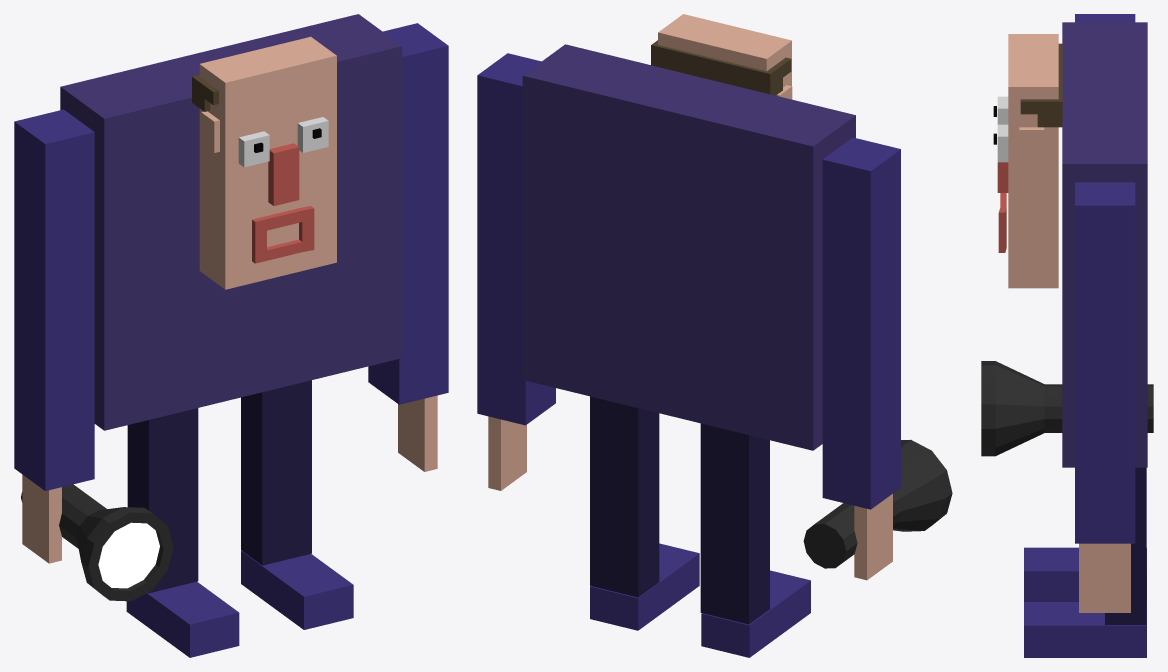
The model's file is Man.glb.
3 renders of one model, left to right at view 1: azimuth 30°, elevation 25°; view 2: azimuth 150°, elevation 25°; view 3: azimuth 270°, elevation 25°, orthographic. The views are drawn at different scales.
Parts seen in each view (by area): view 1: Cube.002, Cube.003, Cube.001, Cube, Cube.005, Cube.004, Cylinder, Cube.006, Cube.007, Cube.009, Cube.008, Cube.015 (+5 smaller); view 2: Cube.002, Cube.003, Cube, Cube.004, Cube.005, Cylinder, Cube.001, Cube.007, Cube.006, Cube.013, Cube.009, Cube.008; view 3: Cube, Cube.002, Cube.001, Cylinder, Cube.006, Cube.008, Cube.007, Cube.005, Cube.013, Cube.014, Cube.003, Cube.015 (+3 smaller).
Boxes of the visible parts, x1,y1,x2,y2 form: Cube.002: (60,14,402,430); Cube.003: (14,109,94,490); Cube.001: (199,36,336,289); Cube: (368,23,448,404); Cube.005: (241,380,311,565); Cube.004: (127,408,198,593); Cylinder: (21,484,173,601); Cube.006: (241,550,353,629); Cube.007: (126,581,239,657); Cube.009: (22,474,61,563); Cube.008: (398,395,437,471); Cube.015: (252,206,314,263); Cube.002: (522,44,855,450); Cube.003: (822,137,900,509); Cube: (477,53,555,425); Cube.004: (700,423,769,624); Cube.005: (590,396,659,597); Cylinder: (803,439,952,568); Cube.001: (658,14,791,87); Cube.007: (701,570,810,657); Cube.006: (590,543,699,630); Cube.013: (651,40,791,95); Cube.009: (854,494,892,580); Cube.008: (488,416,526,490); Cube: (1075,182,1135,543); Cube.002: (1062,22,1147,467); Cube.001: (1008,34,1058,288); Cylinder: (981,361,1153,456); Cube.006: (1024,602,1146,657); Cube.008: (1079,543,1130,612); Cube.007: (1024,547,1146,601); Cube.005: (1105,467,1146,624); Cube.013: (1020,43,1062,127); Cube.014: (1019,127,1044,160); Cube.003: (1075,14,1135,22); Cube.015: (998,193,1006,252).
Size of the model in its own units: 2.74 by 3.68 by 1.03.
